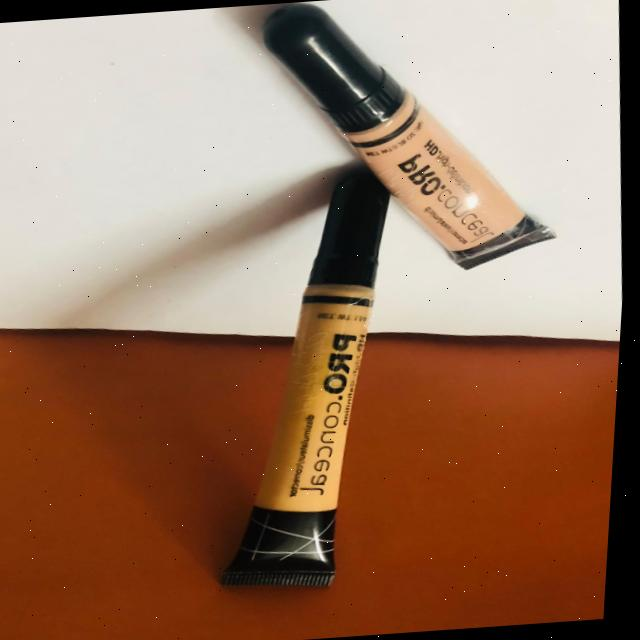concealer: (186, 169, 442, 604), (232, 0, 576, 295)
